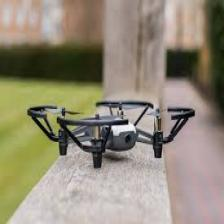drone: (27, 100, 195, 159)
